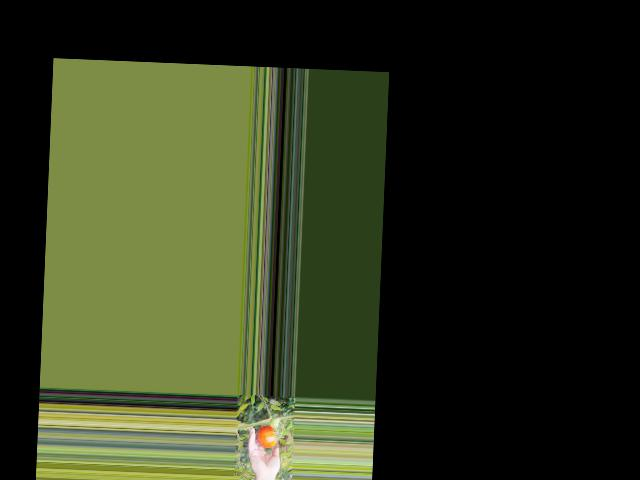tomato: (256, 424, 277, 449)
